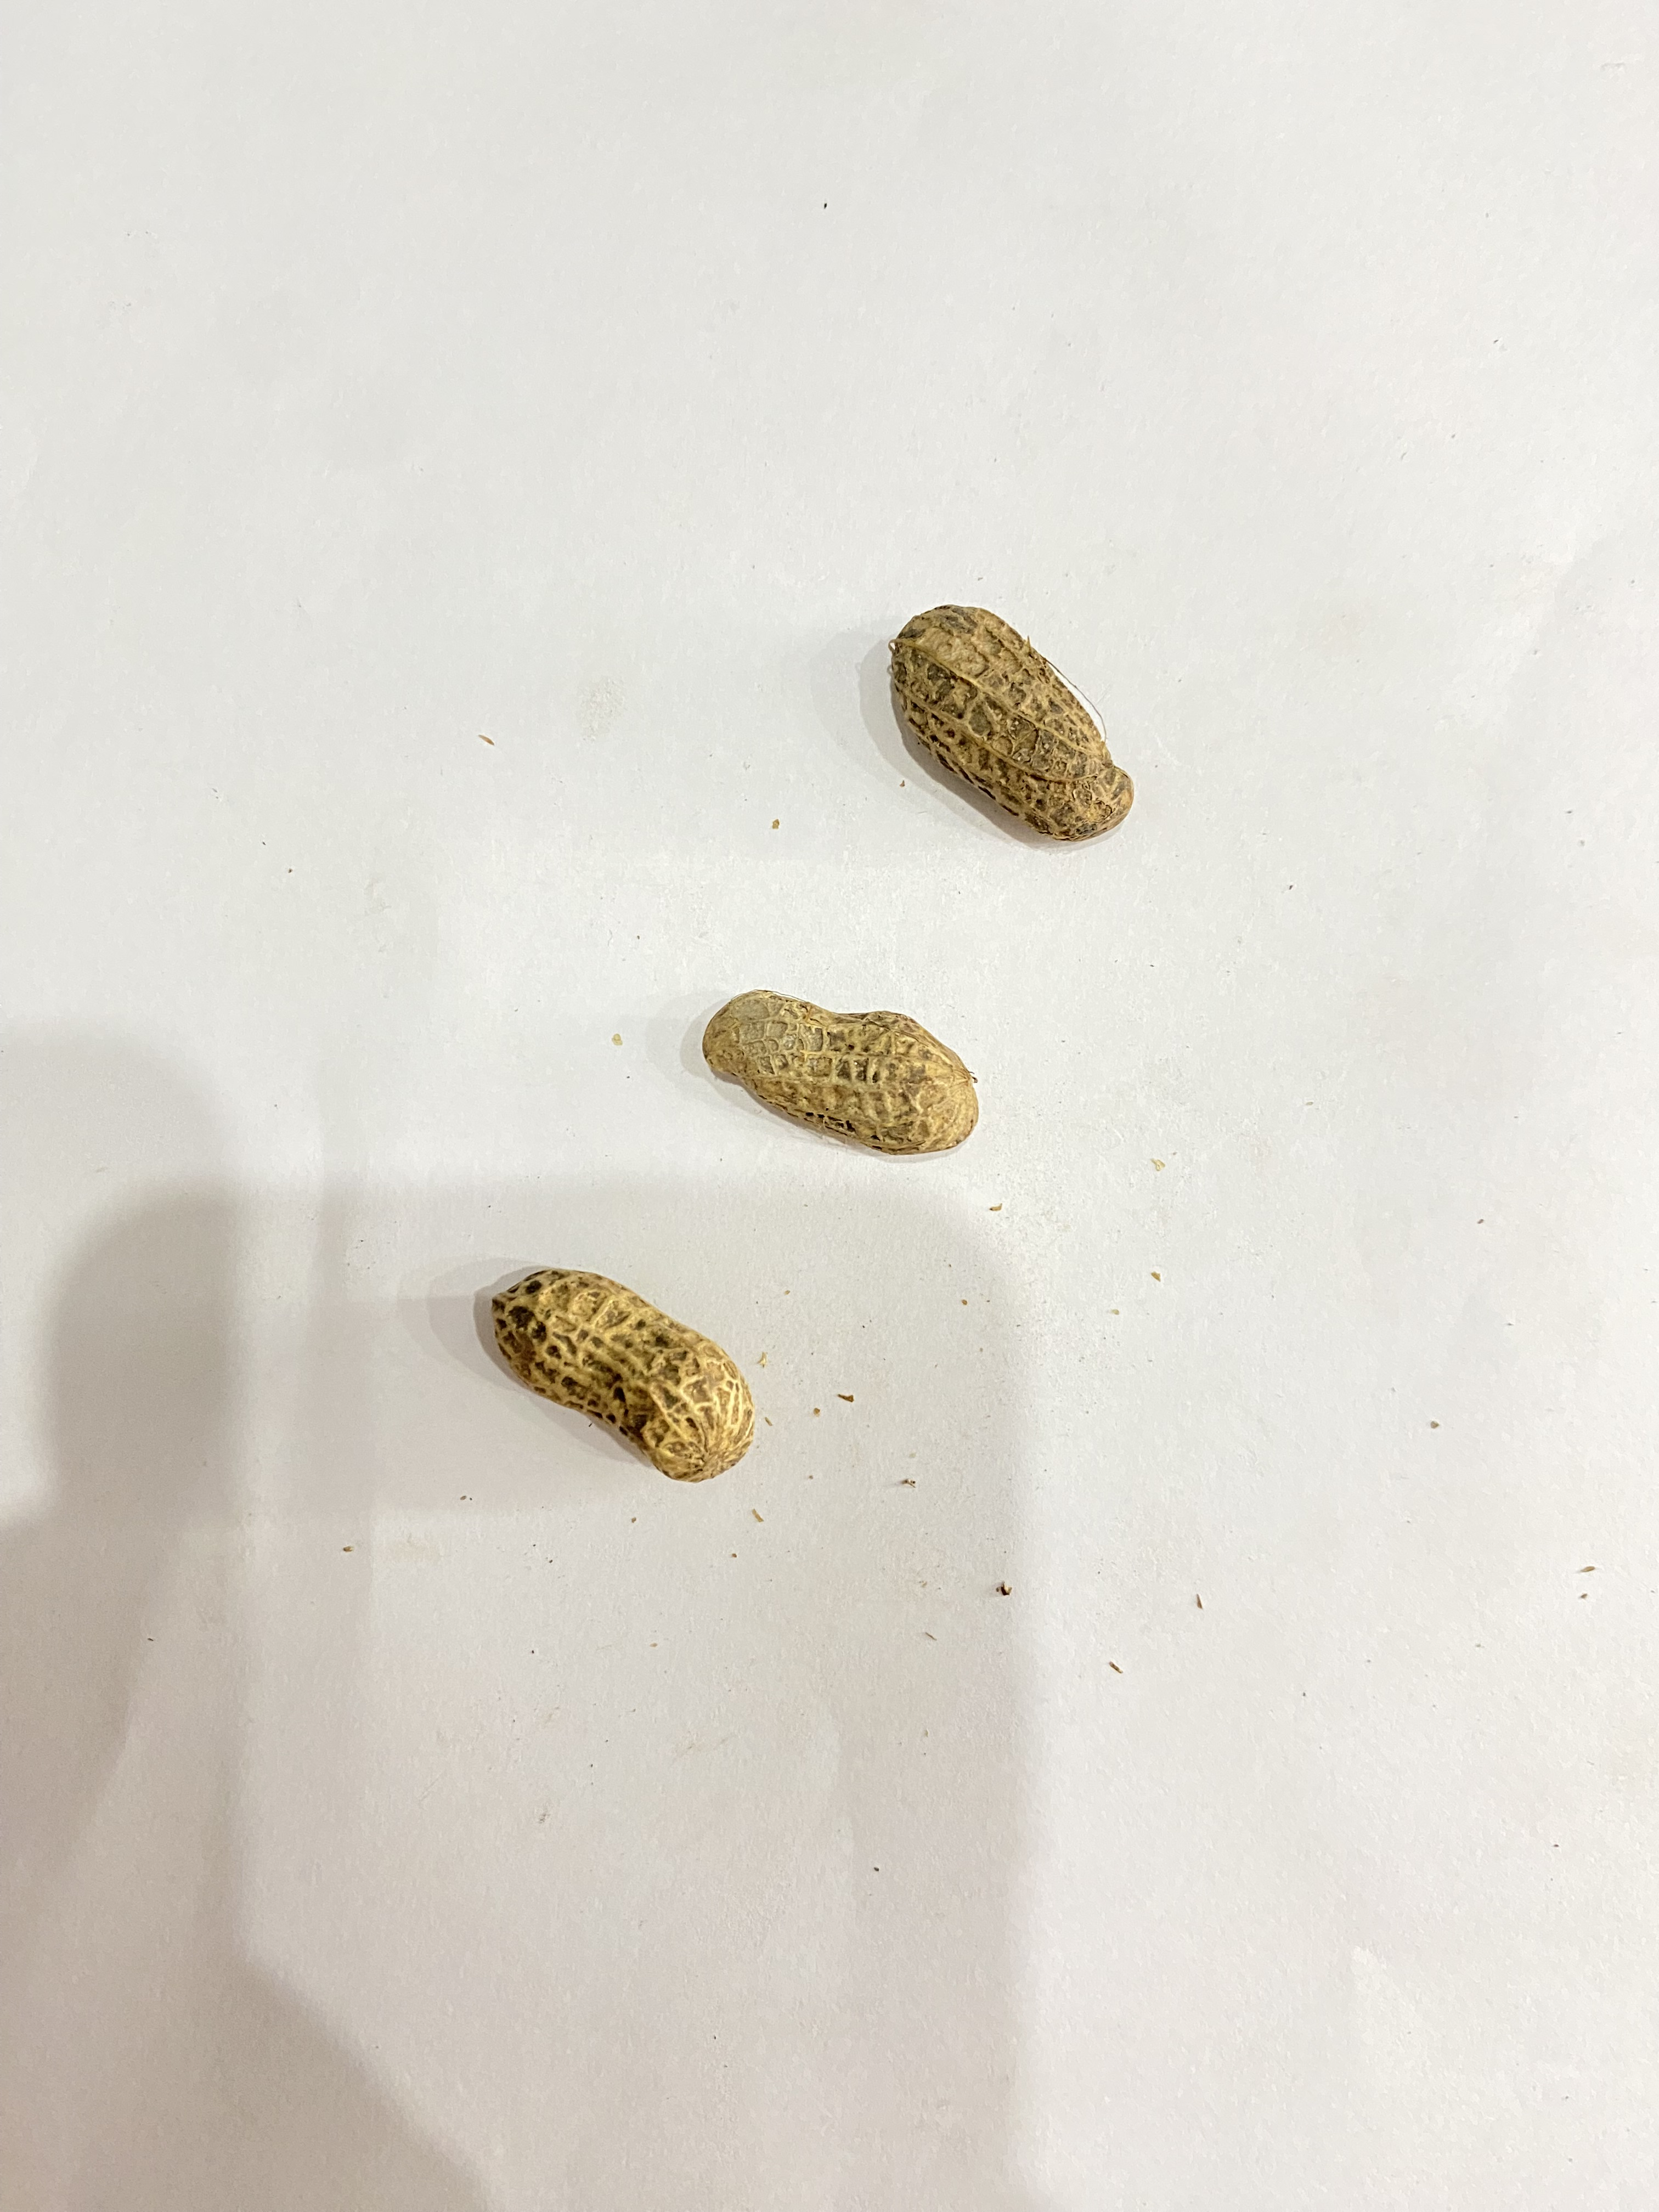kacang1: (852, 566, 1145, 848), (687, 954, 995, 1174)
kacang2: (460, 1258, 765, 1514)
